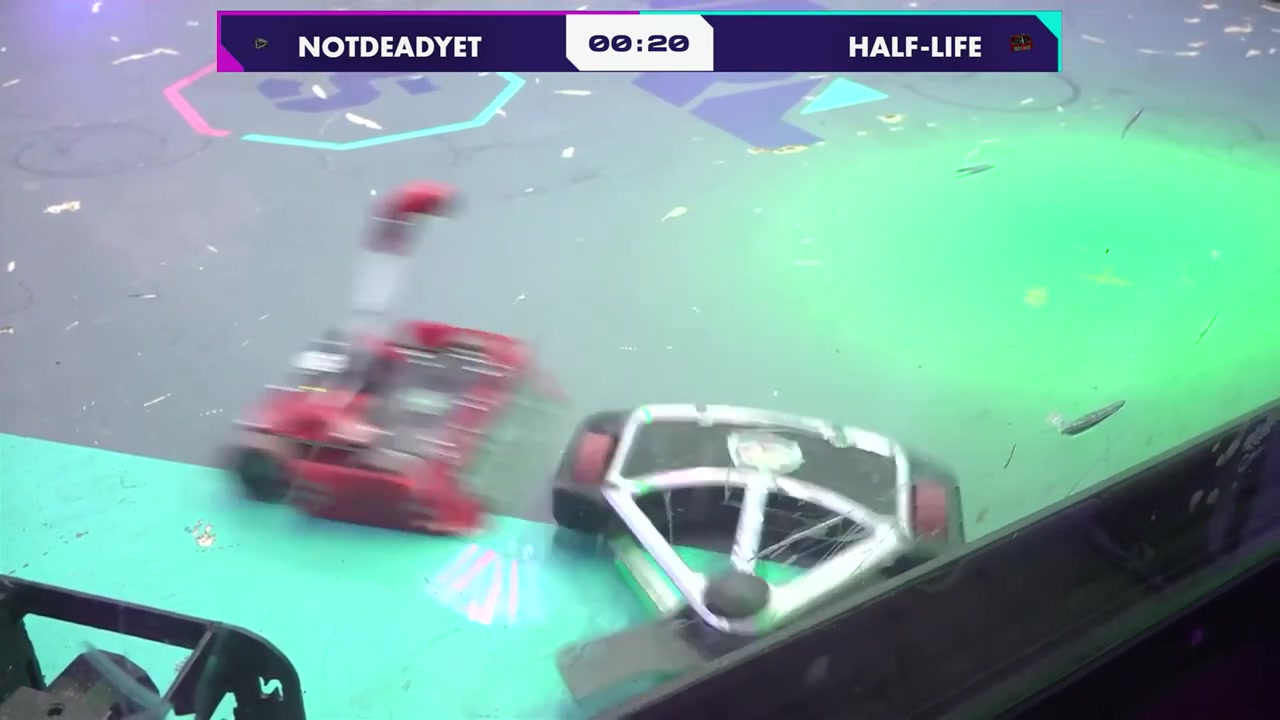combatbot: (230, 183, 537, 539), (551, 401, 966, 638)
